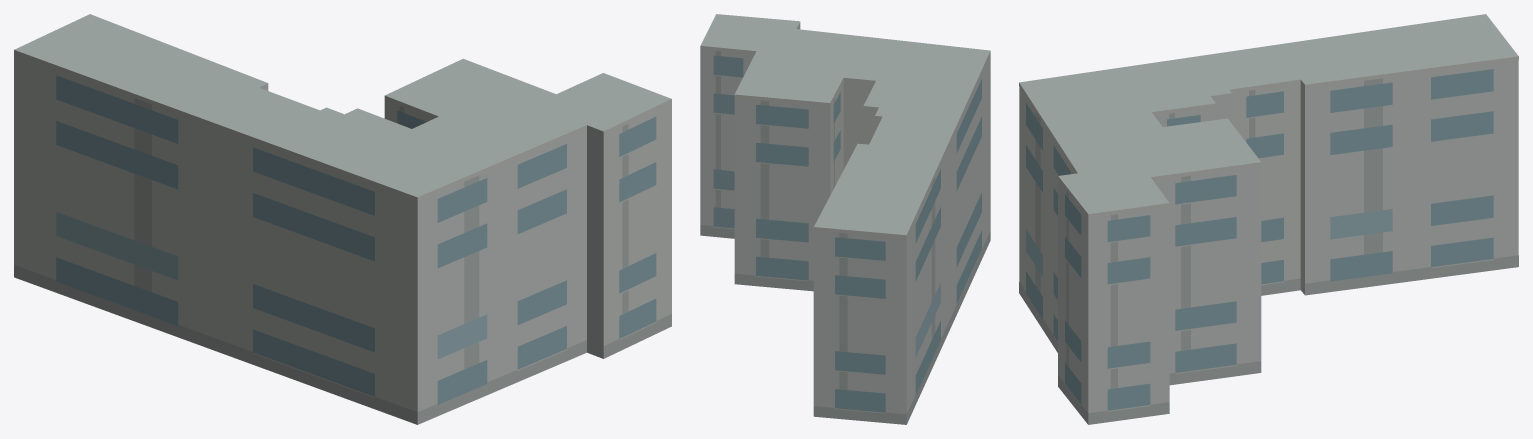
Rendered from survey-upis-32935902.glb.
3 views of the same model, side by side, from view 1: azimuth 30°, elevation 25°; view 2: azimuth 150°, elevation 25°; view 3: azimuth 270°, elevation 25° (orthographic). The views are drawn at different scales.
Parts seen in each view (by area): view 1: survey-upis-32935902.tmp; view 2: survey-upis-32935902.tmp; view 3: survey-upis-32935902.tmp.
Boxes of the visible parts, box(x1,y1,x2,y2) form: survey-upis-32935902.tmp: box(14, 14, 671, 424); survey-upis-32935902.tmp: box(700, 14, 990, 424); survey-upis-32935902.tmp: box(1019, 14, 1518, 424).
Bounding box in the file's own units: 26.6 × 13.05 × 28.06.
